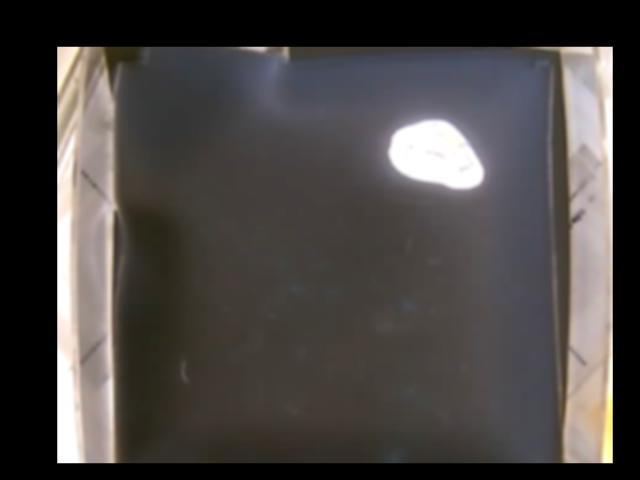Pebble: (387, 118, 484, 190)
